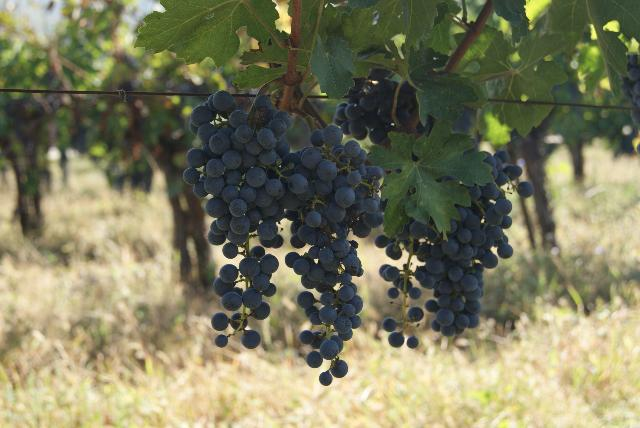grapes: (184, 91, 305, 349), (385, 150, 534, 336), (280, 125, 384, 385)
